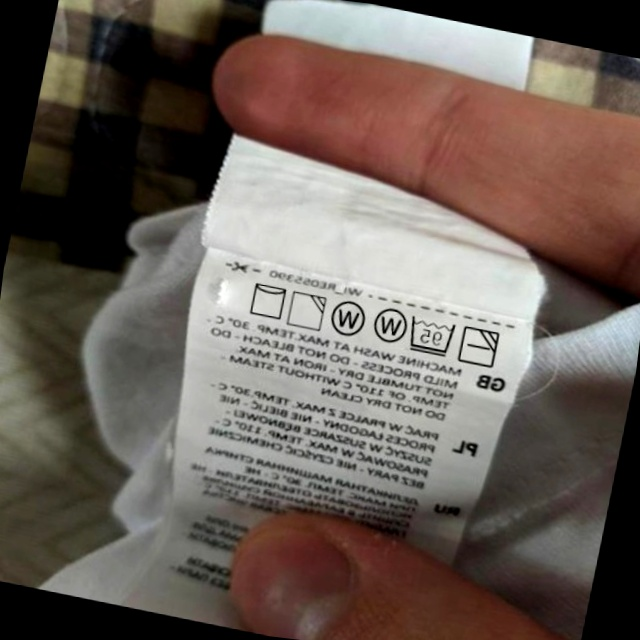95C: (403, 312, 459, 359)
dry_flat_in_shade: (456, 322, 503, 371)
line_dry: (244, 277, 291, 323)
shade_dry: (284, 287, 329, 334)
wet_clean: (326, 296, 370, 342), (368, 300, 411, 347)
